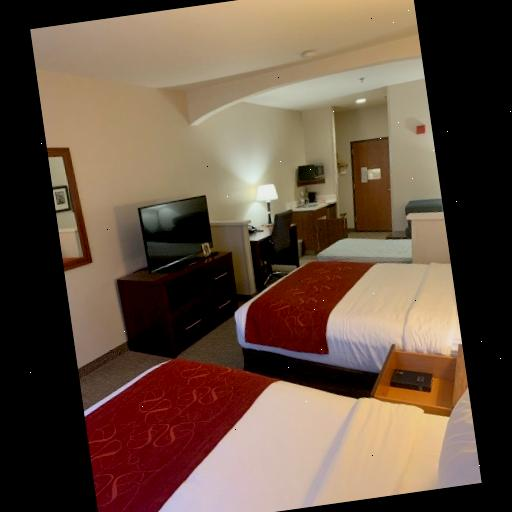chair: (252, 208, 306, 278)
clean_bed: (85, 356, 482, 512), (233, 258, 464, 394)
lamp: (246, 176, 289, 236)
